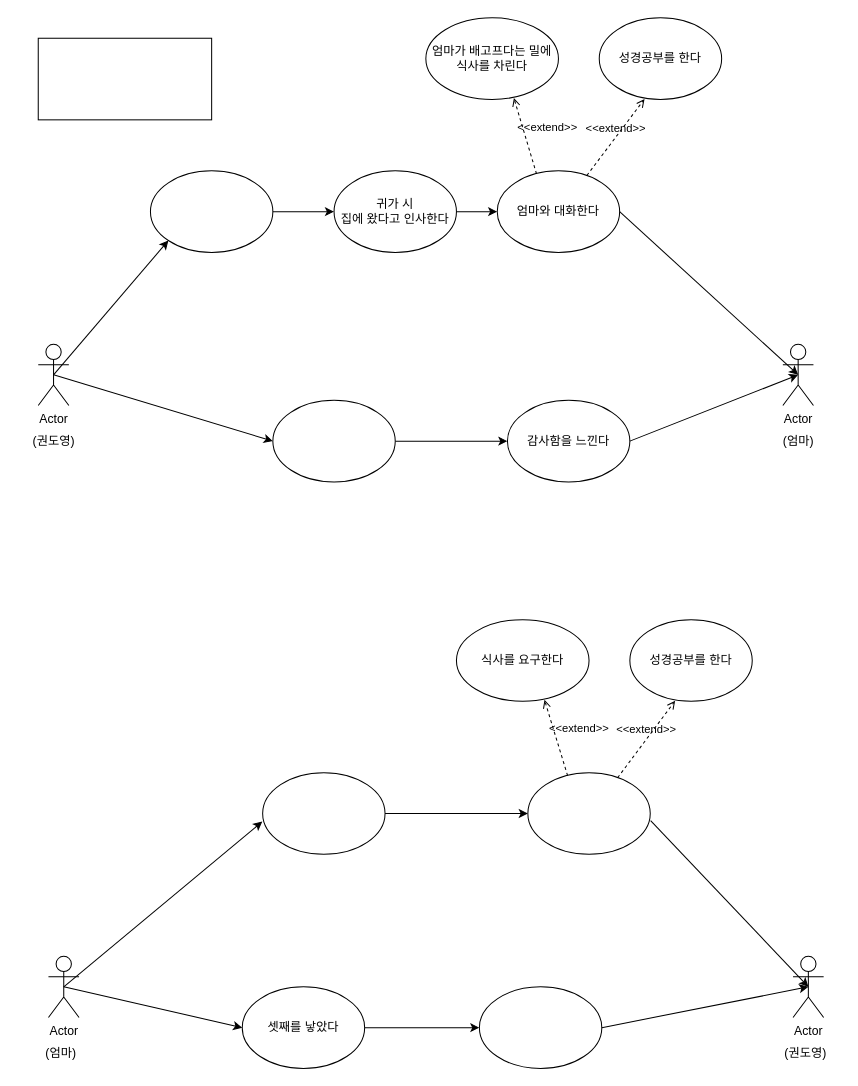
Image size: 858x1086. Some labels were removed from this diagram. Each missing label, with the box of its shape:
나를 낳아주셨다: (272, 399, 395, 482)
딸과 대화를 한다: (527, 772, 650, 854)
본가에 같이 산다: (149, 170, 273, 252)
정성껏 양육한다: (478, 986, 602, 1068)
주제: 엄마와의 관계: (37, 37, 212, 120)
집에 도착한다: (262, 772, 385, 854)
